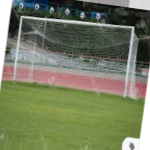goals: (14, 13, 139, 101)
